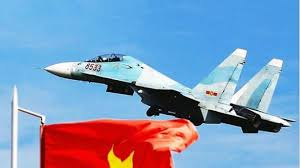maybay_muctieu: (40, 33, 289, 137)
